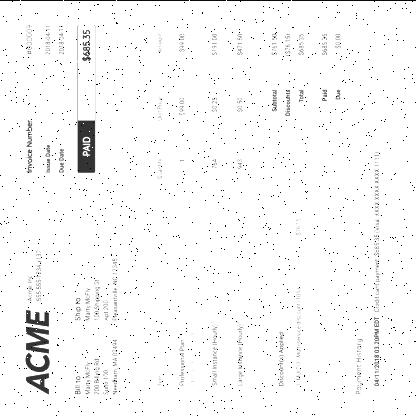Paragraph: (266, 26, 346, 119), (353, 149, 383, 395), (22, 22, 68, 174), (276, 214, 306, 388), (72, 256, 122, 323), (71, 336, 121, 398), (79, 27, 93, 158), (24, 247, 44, 302)
Table: (151, 24, 255, 394)
